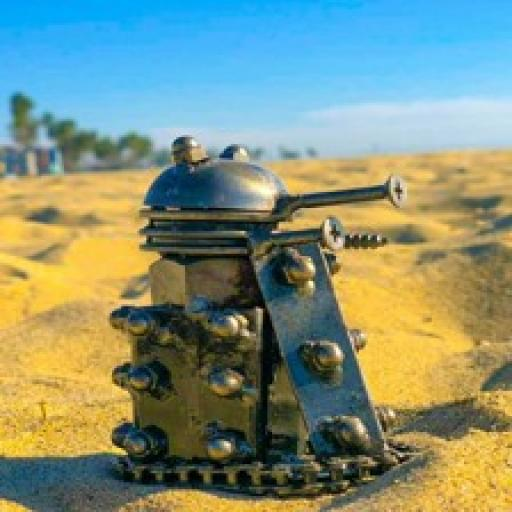dalek: (95, 130, 426, 488)
